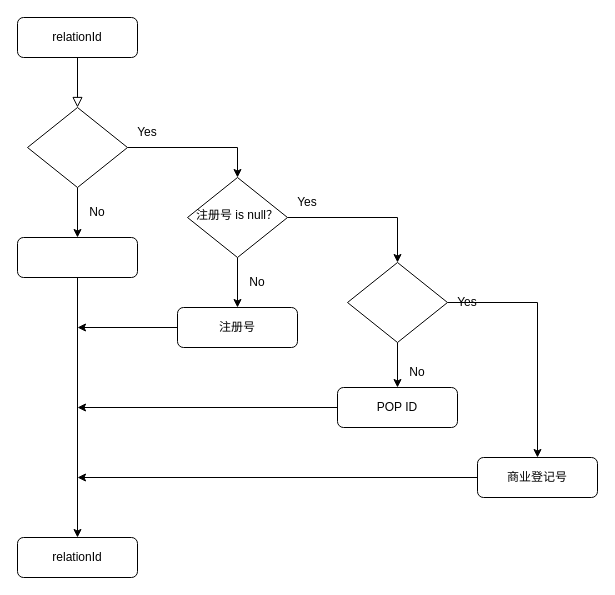
This 615x595 diagram has some shape labels left out. Here are the shapes that lost their labels. From the top down, the centre of each, then its label:
At pixel 77 147: "SCC is null?".
At pixel 77 257: "SCC".
At pixel 397 302: "POP ID is null？".
